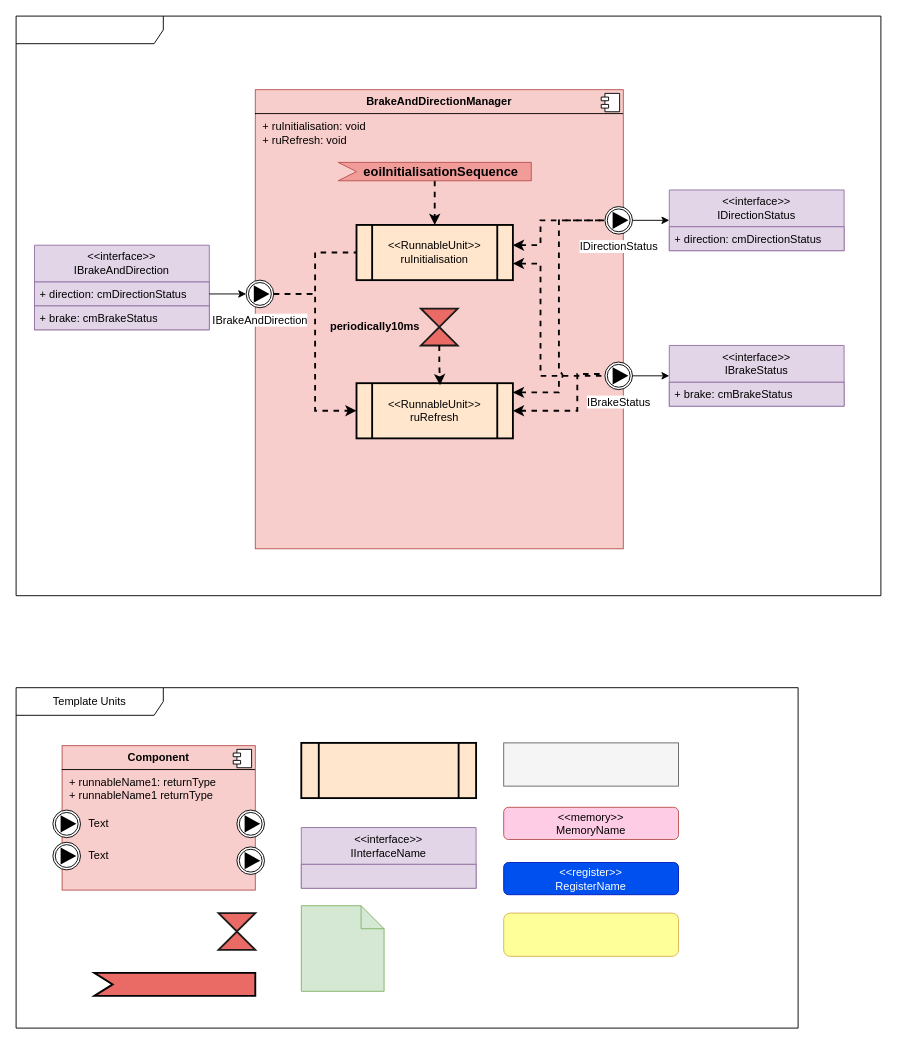
Image size: 897x1044. Some labels were removed from this diagram. The shapes that lost their labels are listed below. From the top down, each one's centre as x and y in pixels, then its label:
At (448,305): "BrakeAndDirectionManager Component Detailed Design".
At (388,770): "<<RunnableUnit>> ruRunnableName".
At (590,764): "<<Library>> LibraryName".
At (388,875): "+ value: CompuMethod".
At (236,931): "timeTriggerEvent".
At (342,948): "Note".
At (590,934): "<<shared function>> sharedFuncName".
At (174,984): "operationInvokeEvent".
